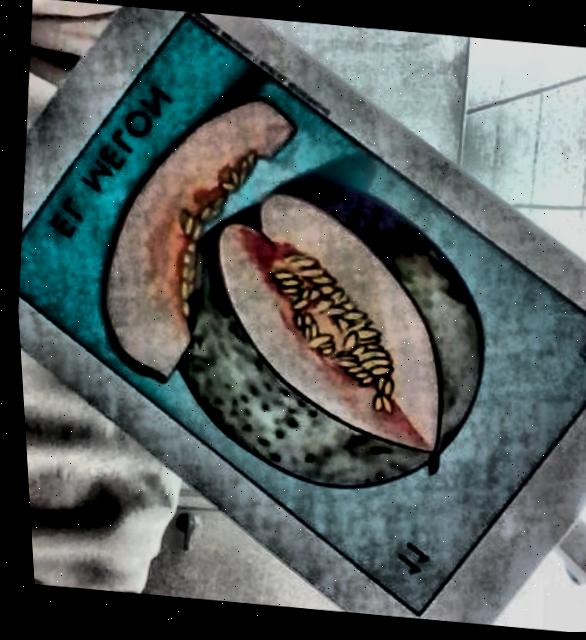El Melon: (15, 17, 586, 612)
